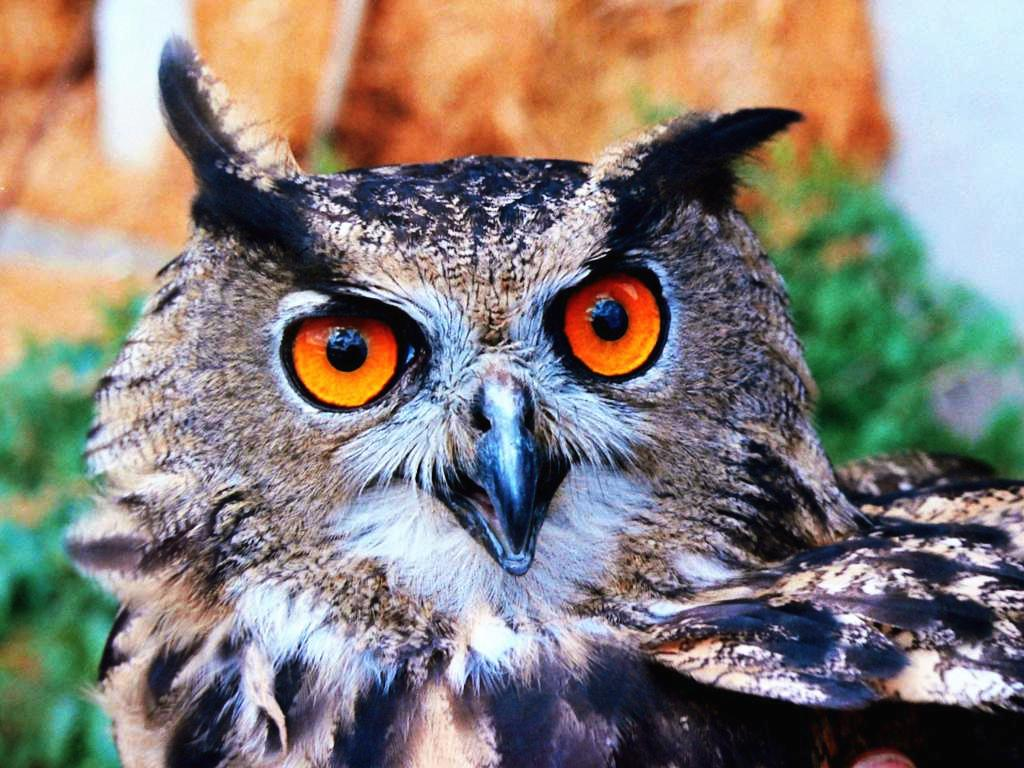Owl: (110, 115, 1011, 747)
